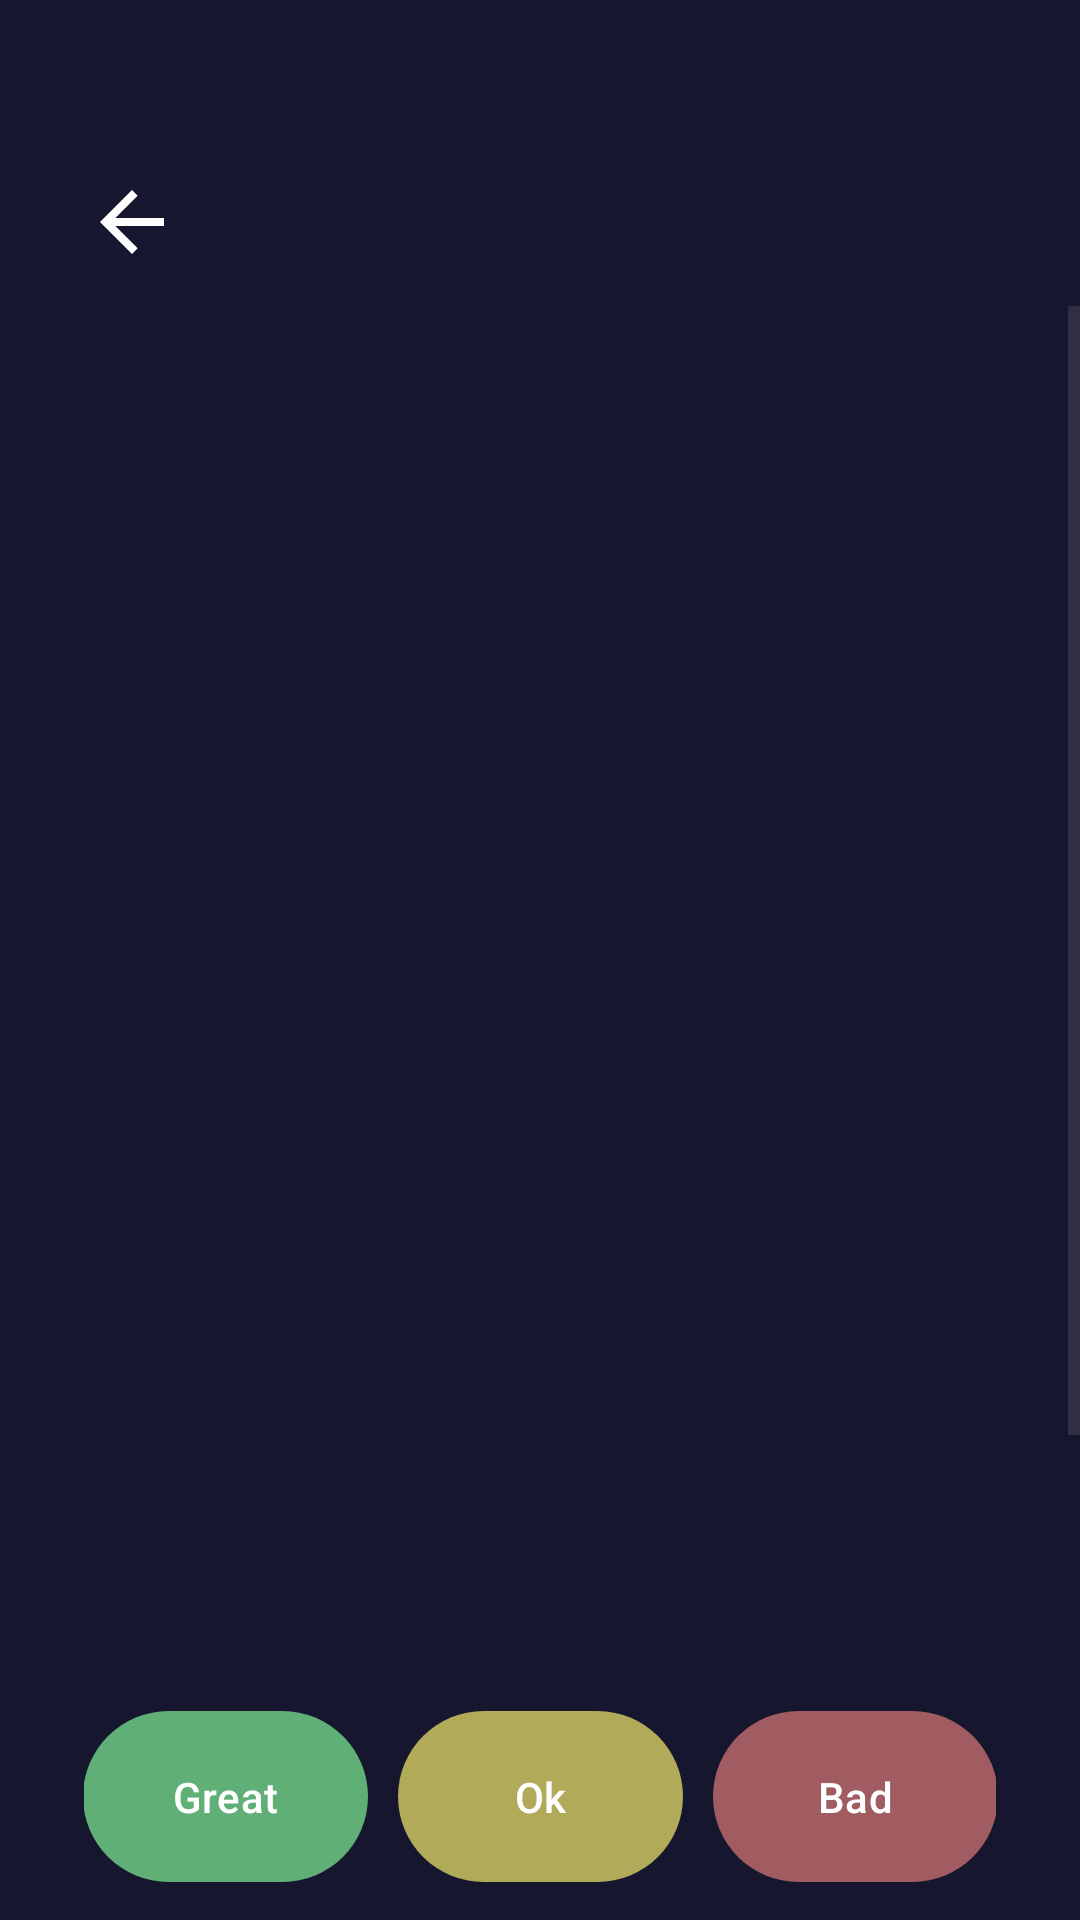

Screen size 1080px×1920px. Icon name, then its center in pixels as point (x, y):
Back: point (132, 222)
